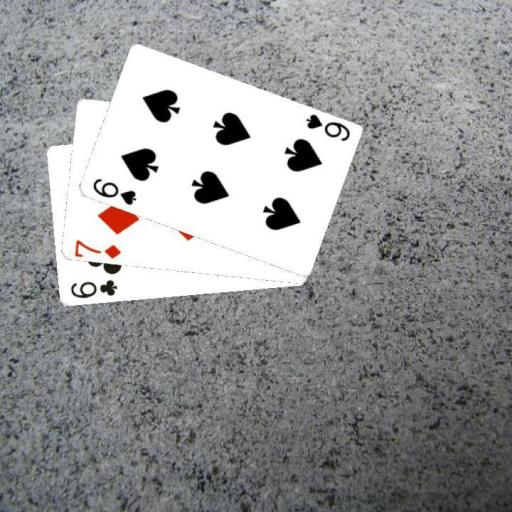card-corner: (302, 111, 352, 143), (89, 175, 138, 207), (67, 276, 118, 300), (71, 237, 122, 260)
